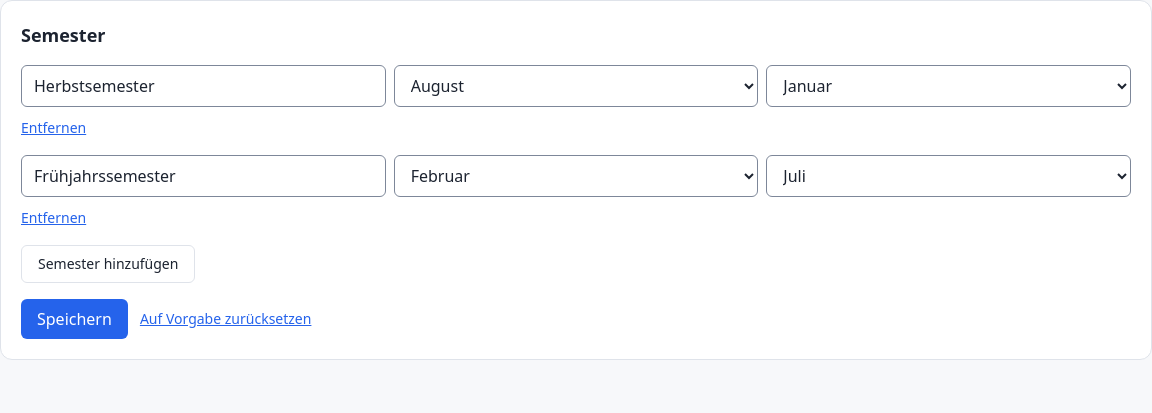
Scenario: Semester › AK-1: zeigt «Nicht gespeichert»
Type "X" into the field named "Name Semester 1" at (203, 86), box [21,65,386,107]
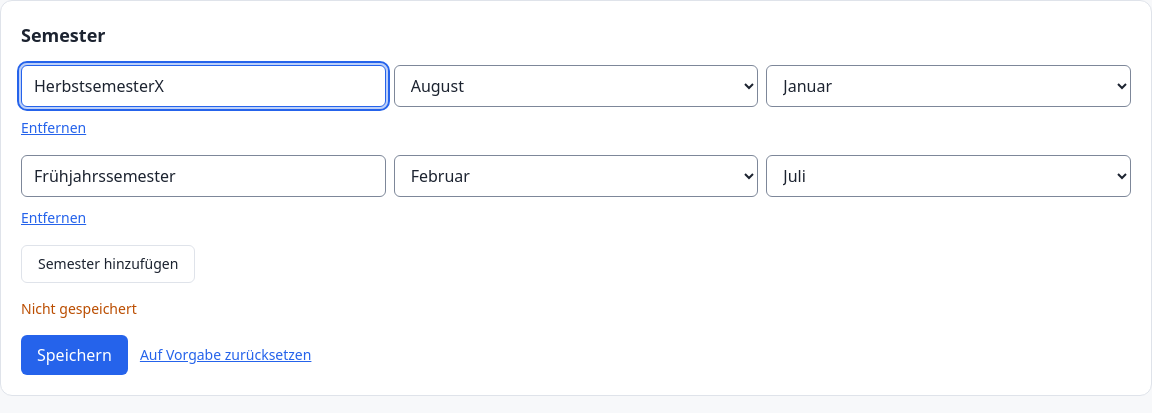
Expected: the text "Nicht gespeichert" is shown, [21,299,137,318]
Click the button "Speichern" at (74, 355), box [21,335,128,375]
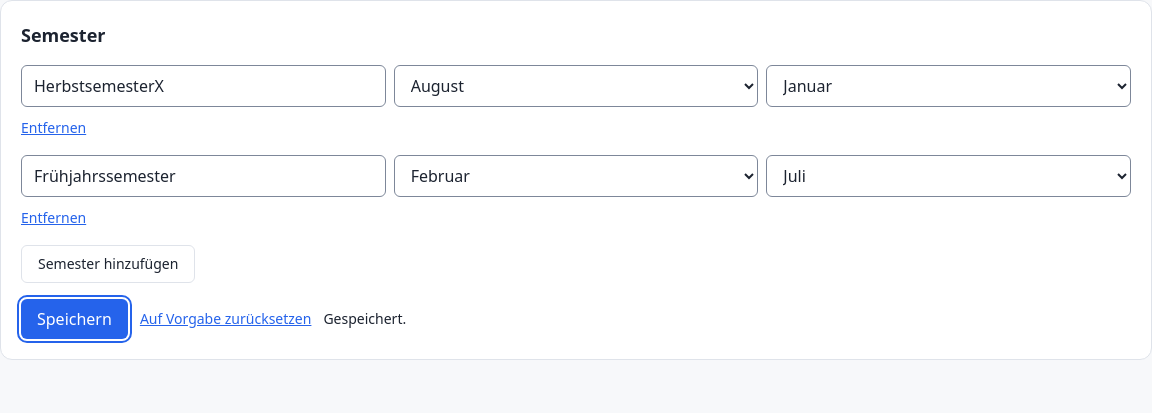
Expected: the message "Gespeichert." is shown, [323,309,406,329]
Expected: the text "Nicht gespeichert" is gone
